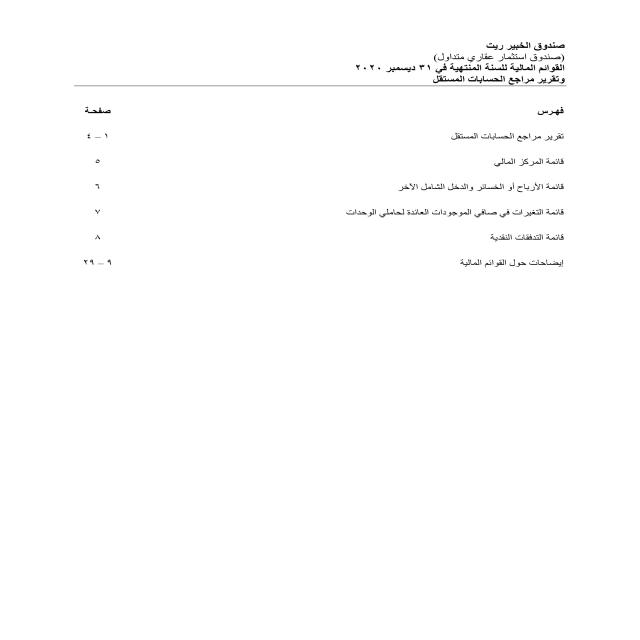other: (49, 94, 572, 281)
